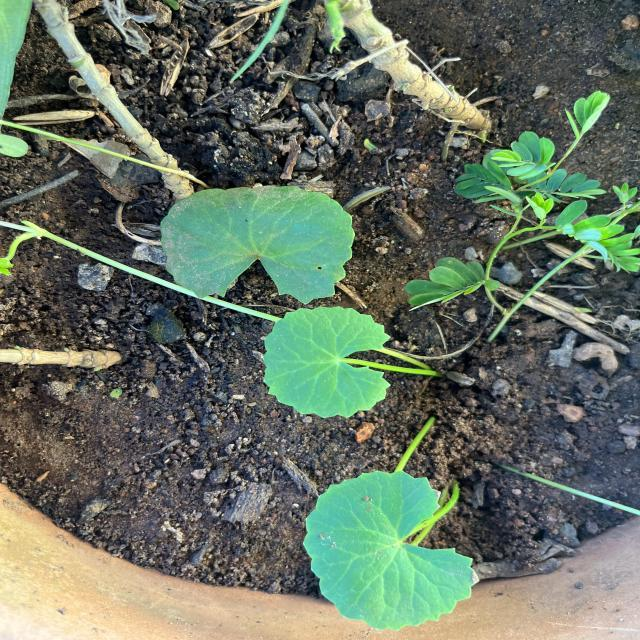Centella asiatica: (299, 466, 483, 634), (154, 182, 360, 306), (258, 303, 396, 421)
